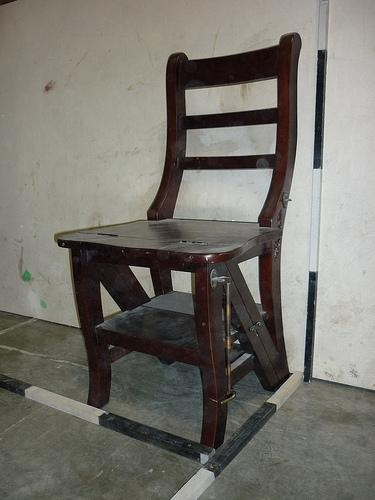obstacle: (55, 33, 300, 447)
